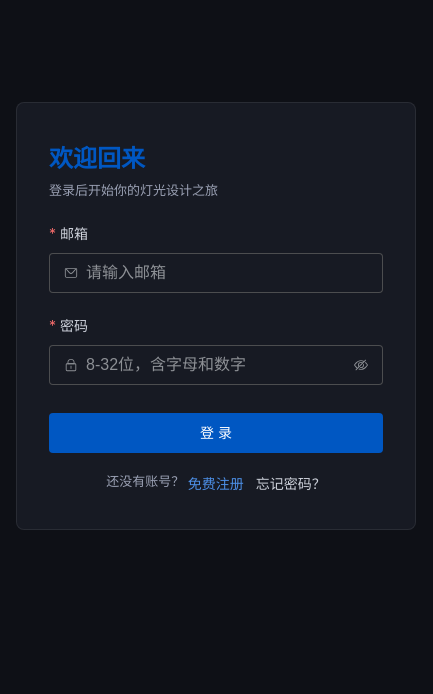
Test: 登录注册页 › 默认登录态，可切换到注册并显示协议勾选
The image size is (433, 694).
Click the link "免费注册". click: (216, 483)
box: top-left (188, 473), bottom-right (244, 493)
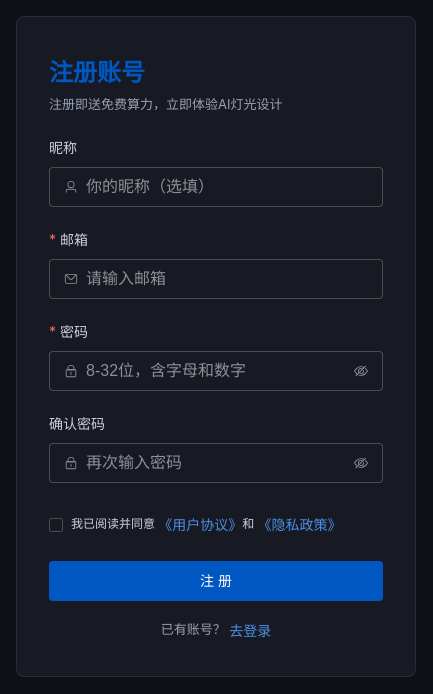
Now the text "注册账号" is shown, box top-left (49, 53), bottom-right (383, 88)
Now the text "用户协议" is shown, box top-left (158, 516), bottom-right (242, 533)
